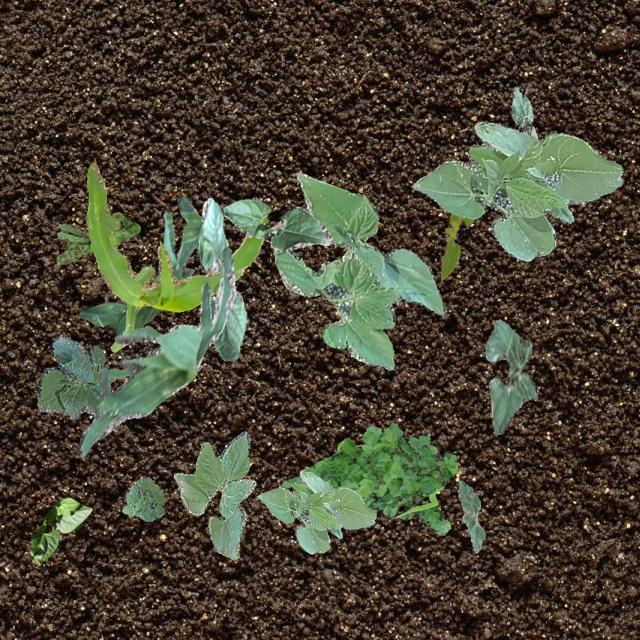crop: (84, 160, 266, 350), (272, 172, 446, 368), (76, 246, 235, 456), (410, 120, 622, 260), (78, 196, 202, 334), (172, 431, 255, 558), (256, 468, 374, 552), (198, 196, 246, 360), (36, 336, 132, 418), (484, 317, 536, 433), (222, 196, 332, 250), (28, 496, 92, 564), (439, 212, 474, 278), (456, 479, 484, 552), (509, 86, 536, 140)
weed: (280, 422, 457, 534), (54, 210, 138, 264), (120, 476, 163, 520)
